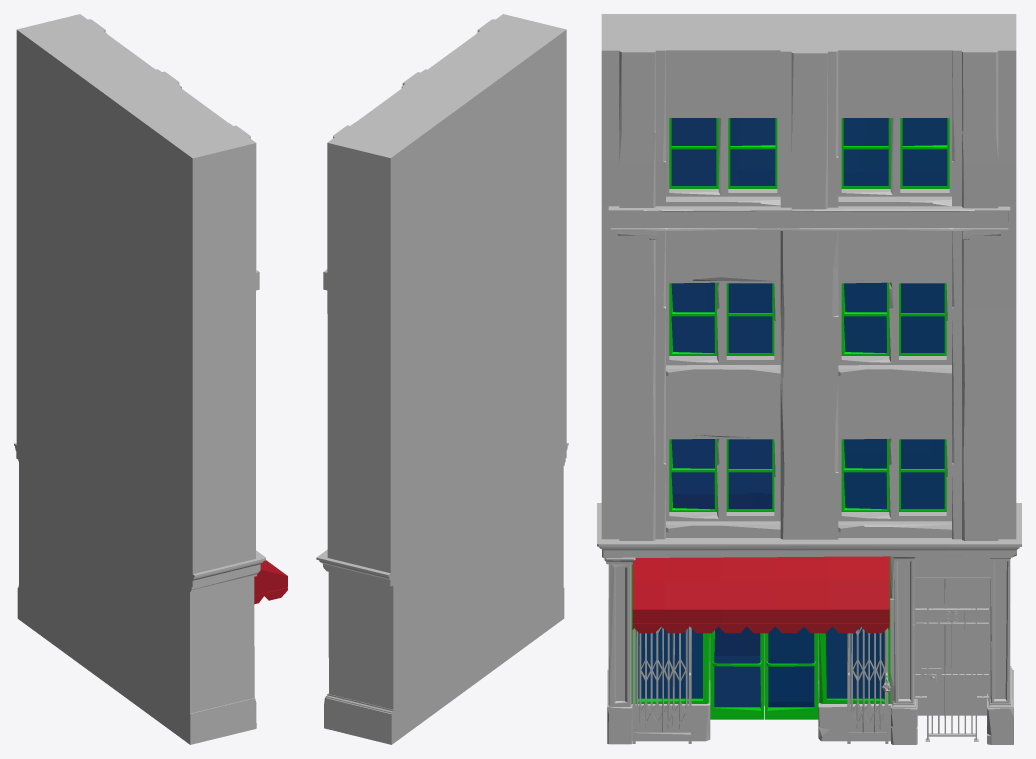
File: Building01.fbx
3 views of the same model, side by side, from view 1: azimuth 30°, elevation 25°; view 2: azimuth 150°, elevation 25°; view 3: azimuth 270°, elevation 25° (orthographic). The views are drawn at different scales.
Parts seen in each view (by area): view 1: SM_City_Building_01b.mo; view 2: SM_City_Building_01b.mo; view 3: SM_City_Building_01b.mo.
Part boxes in pixels (box(x1,y1,x2,y2)): SM_City_Building_01b.mo: box(14, 14, 287, 744); SM_City_Building_01b.mo: box(316, 14, 568, 744); SM_City_Building_01b.mo: box(597, 14, 1021, 744).
Size of the model in its own units: 256 by 1330 by 740.
